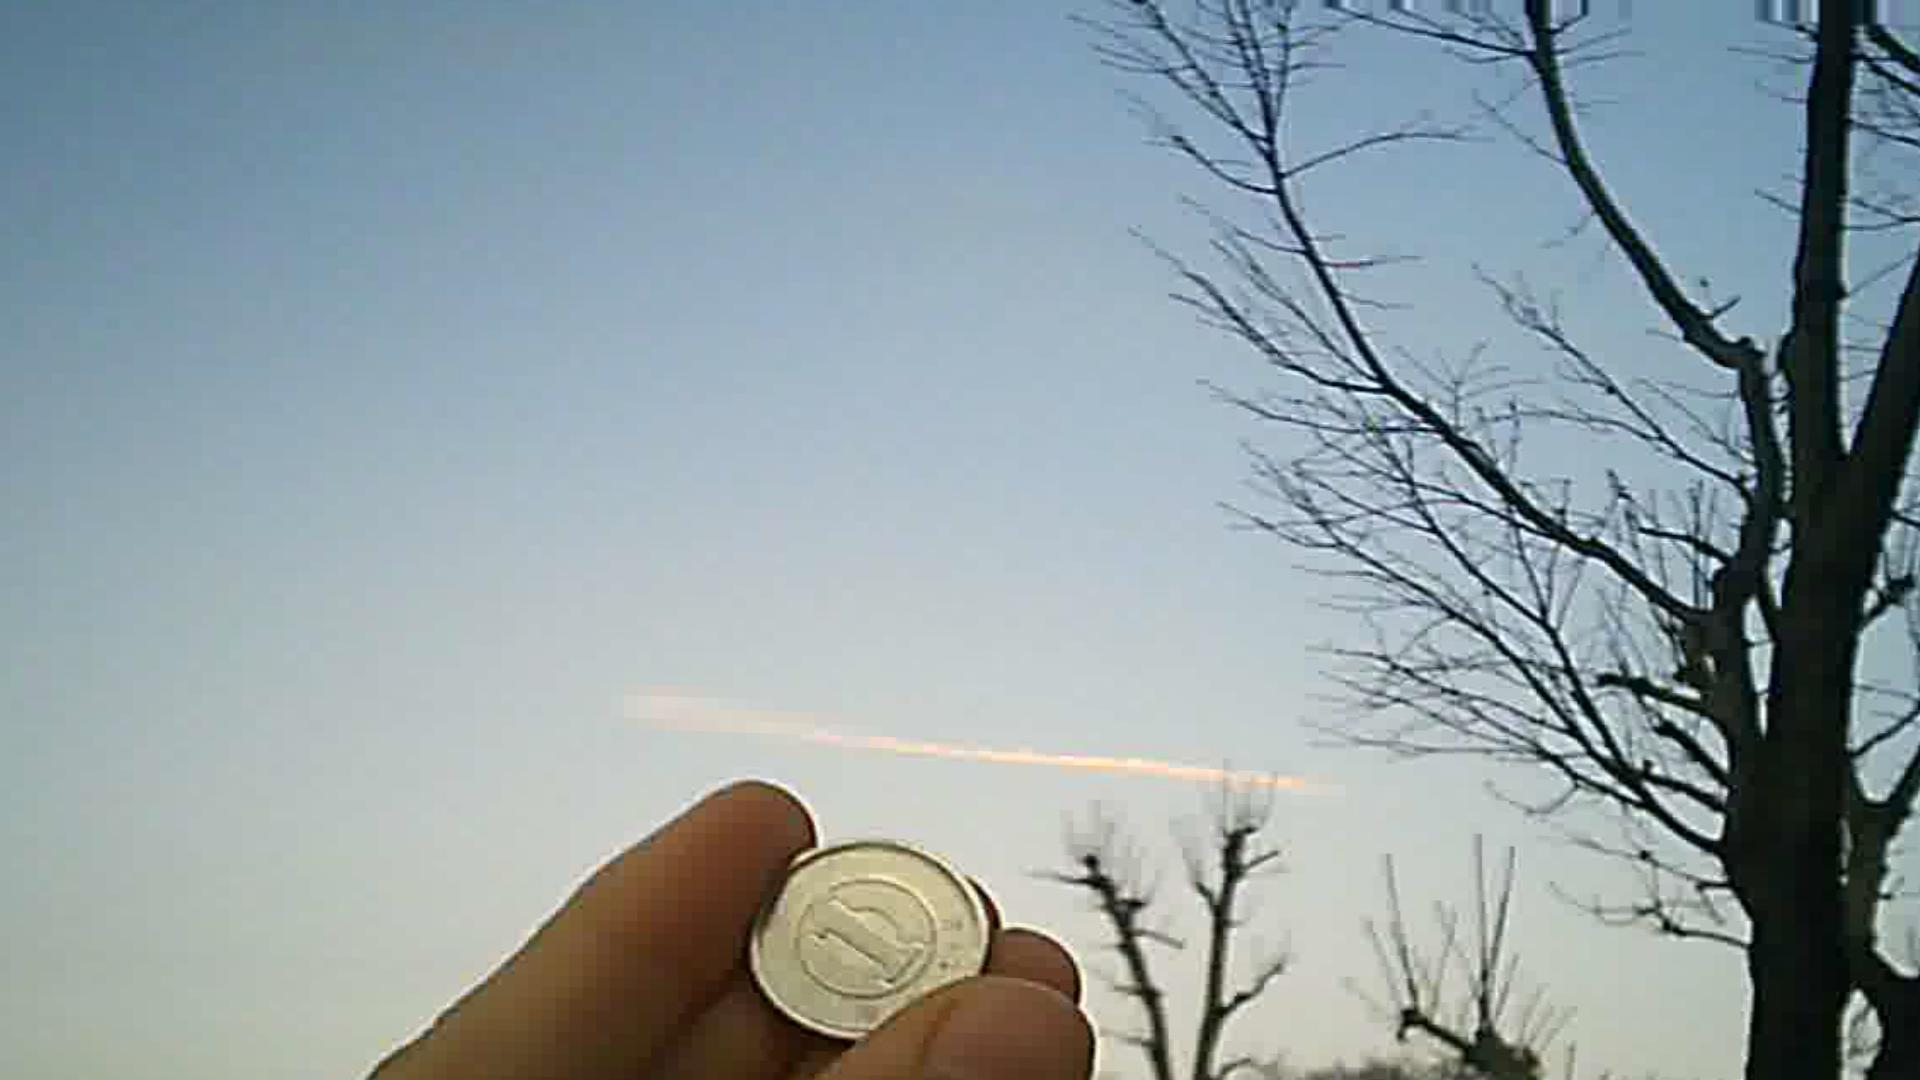1 Yen: (731, 831, 1005, 1015)
